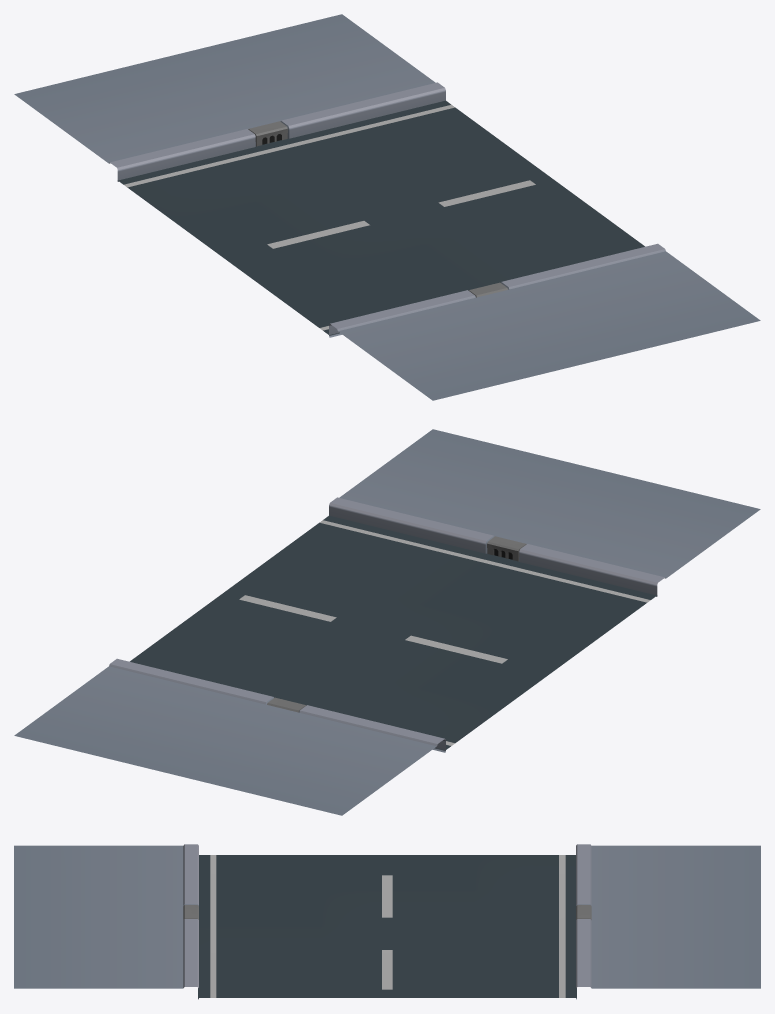
File: Infra_street_withDrains_mdl.fbx
The picture shows the model from 3 angles, top to bottom: view 1: azimuth 30°, elevation 25°; view 2: azimuth 150°, elevation 25°; view 3: azimuth 270°, elevation 25°; orthographic projection. The views are drawn at different scales.
Parts seen in each view (by area): view 1: street_sidewalk_withStormDrain_geo; view 2: street_sidewalk_withStormDrain_geo; view 3: street_sidewalk_withStormDrain_geo.
Part boxes in pixels (x1=…): street_sidewalk_withStormDrain_geo: x1=14, y1=14, x2=760, y2=400; street_sidewalk_withStormDrain_geo: x1=14, y1=429, x2=760, y2=815; street_sidewalk_withStormDrain_geo: x1=14, y1=844, x2=760, y2=999.
Size of the model in its own units: 800 by 33.22 by 1769.
